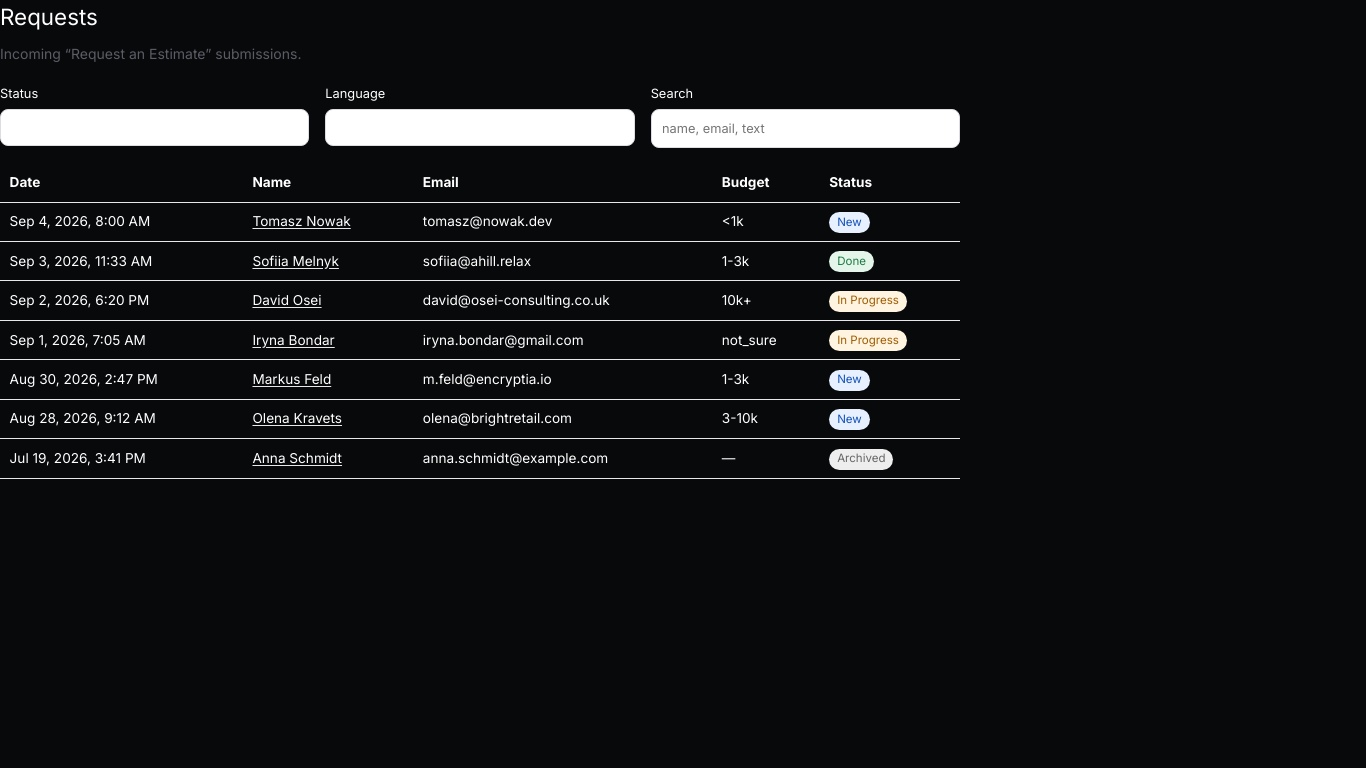
Test: RequestsPage › deletes a request after confirmation
Click the button "Olena Kravets" at (328, 419), box [252,408,404,430]
(page scrolled)
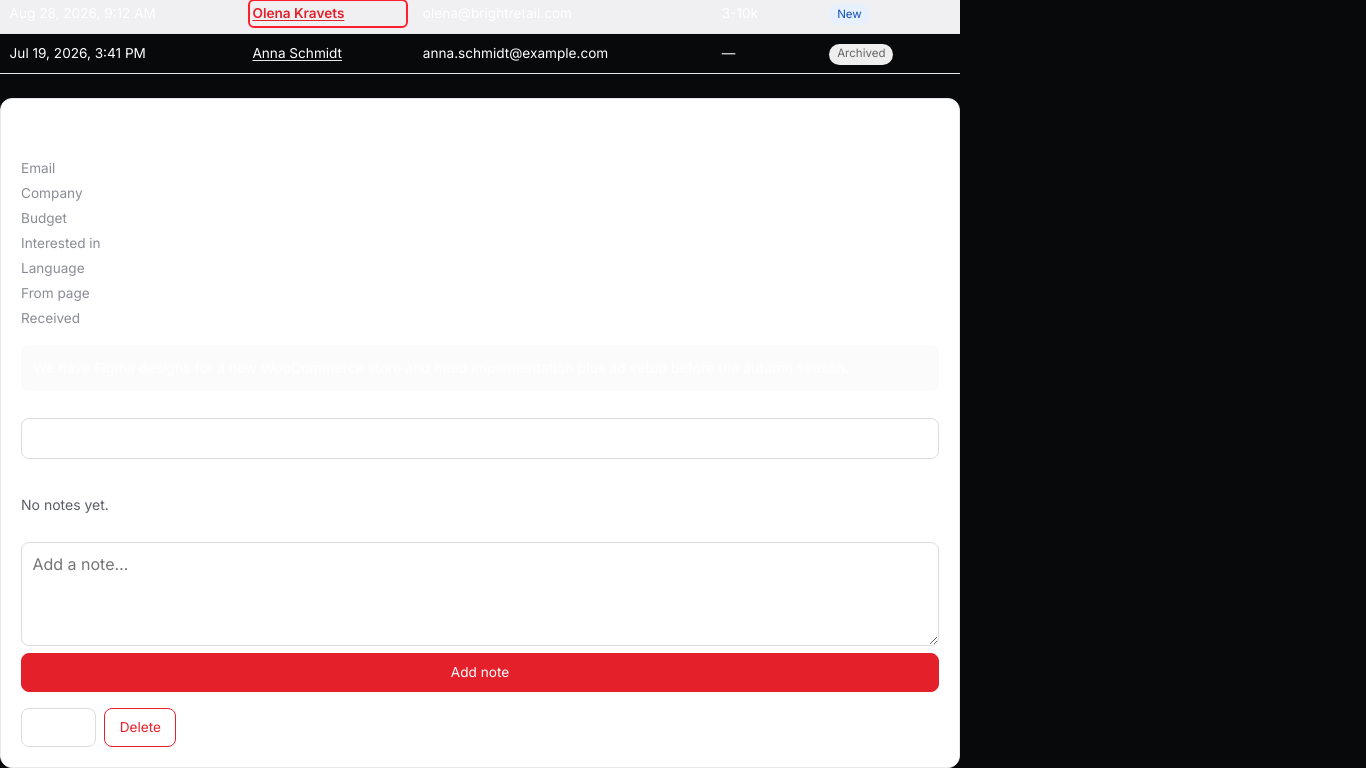
Click the button "Delete" at (140, 727), box [104,708,176,747]
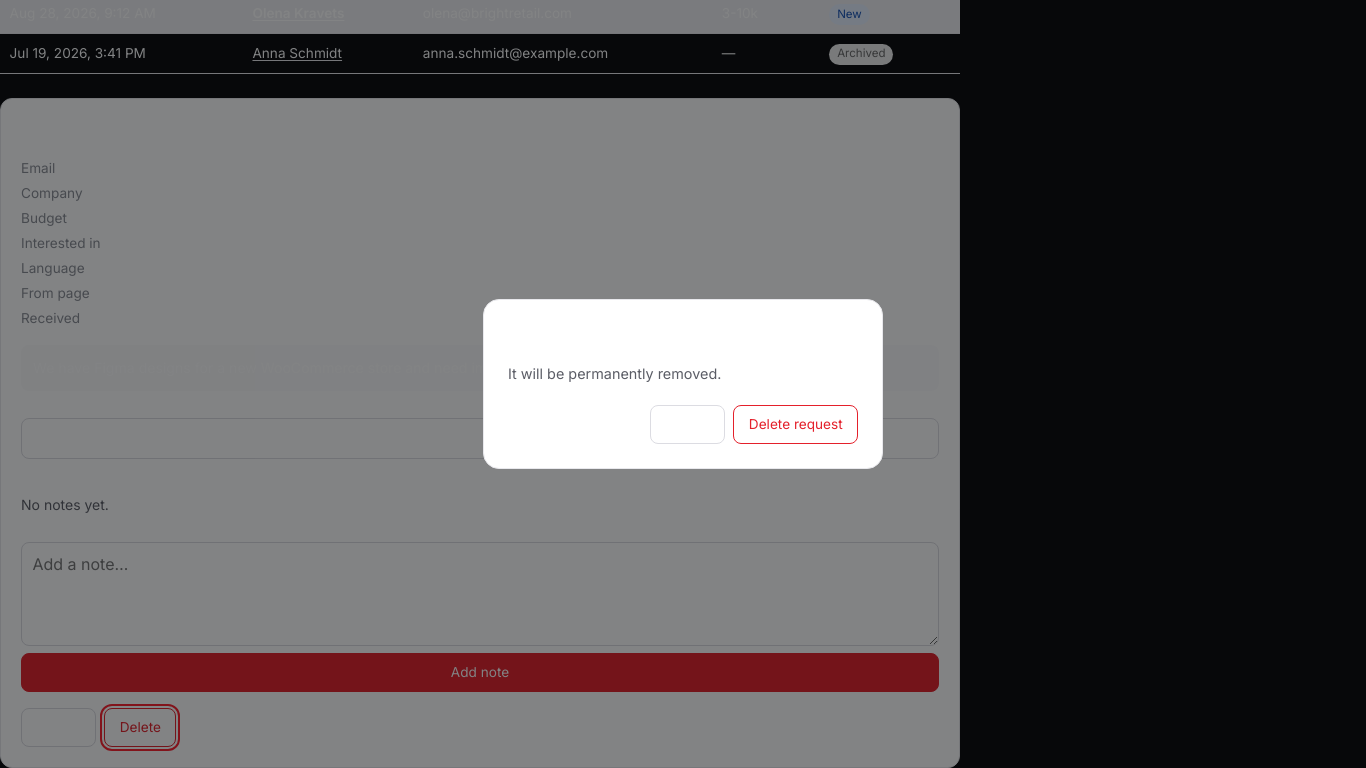
Click the button "Delete request" at (796, 425), box [734,405,858,444]
(page scrolled)
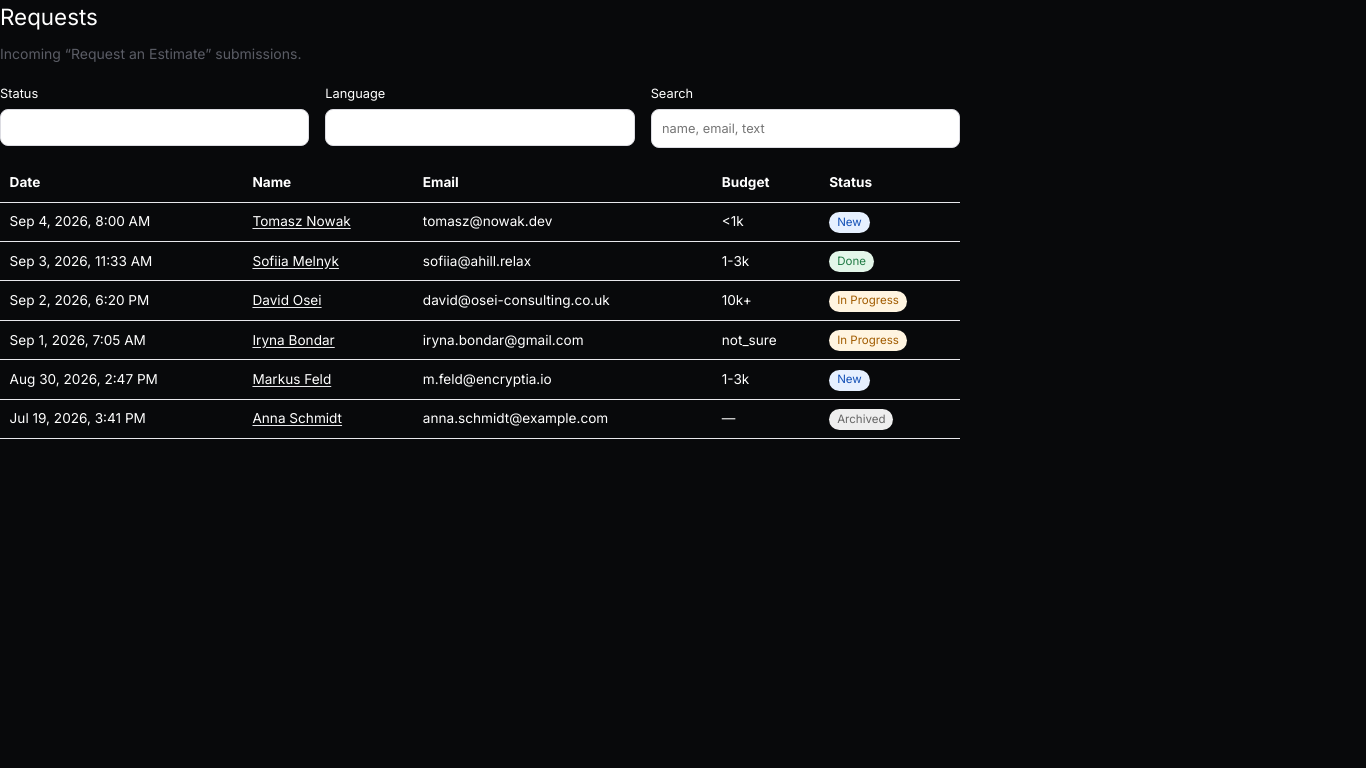
expect the button "Olena Kravets" is gone: met
